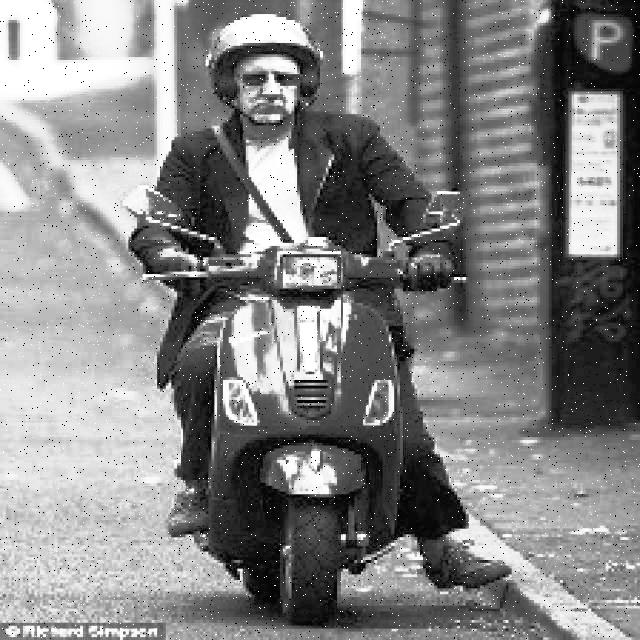Bike: (172, 246, 431, 628)
